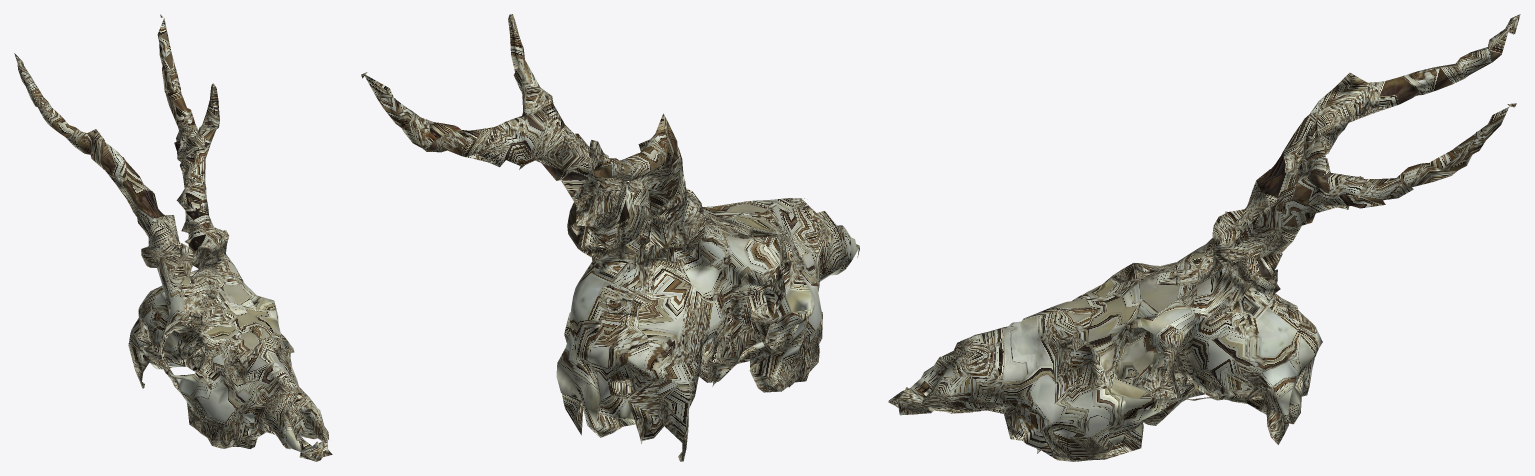
The model's file is deer_skull.glb.
3 views of the same model, side by side, from view 1: azimuth 30°, elevation 25°; view 2: azimuth 150°, elevation 25°; view 3: azimuth 270°, elevation 25° (orthographic). The views are drawn at different scales.
Parts seen in each view (by area): view 1: Deer skull; view 2: Deer skull; view 3: Deer skull.
Boxes of the visible parts, x1=… form: Deer skull: x1=14, y1=14, x2=332, y2=461; Deer skull: x1=361, y1=14, x2=859, y2=461; Deer skull: x1=888, y1=14, x2=1520, y2=461.
Size of the model in its own units: 0.2431 by 0.4459 by 0.6684.
1 material, 1 textured.
